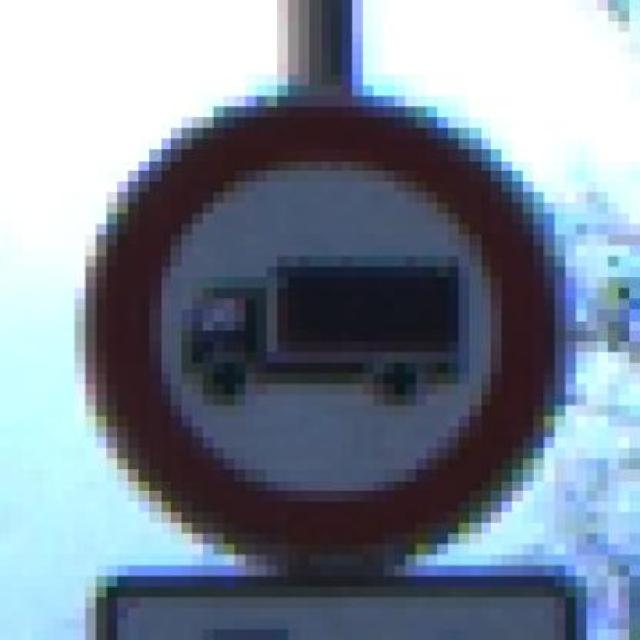Truck traffic is prohibited: (64, 64, 576, 587)
